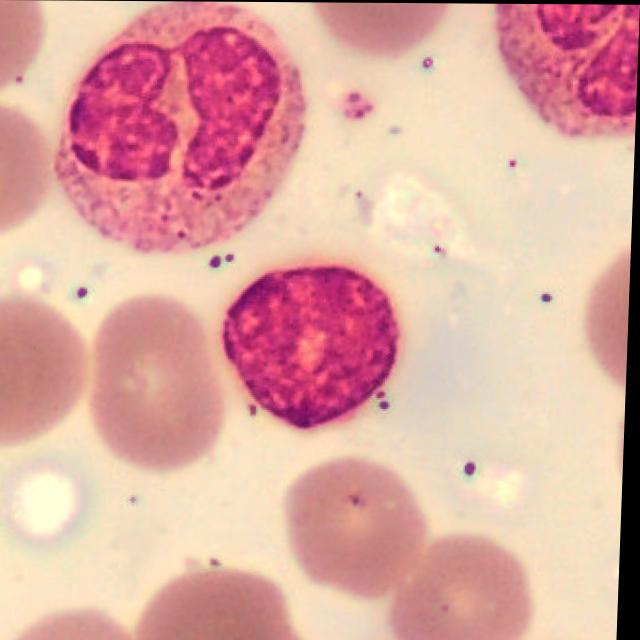Linfocito: (222, 264, 405, 429)
Neutrofilo segmentado: (55, 1, 309, 252)
